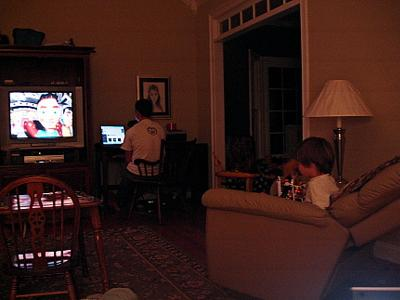person: (295, 137, 342, 212)
